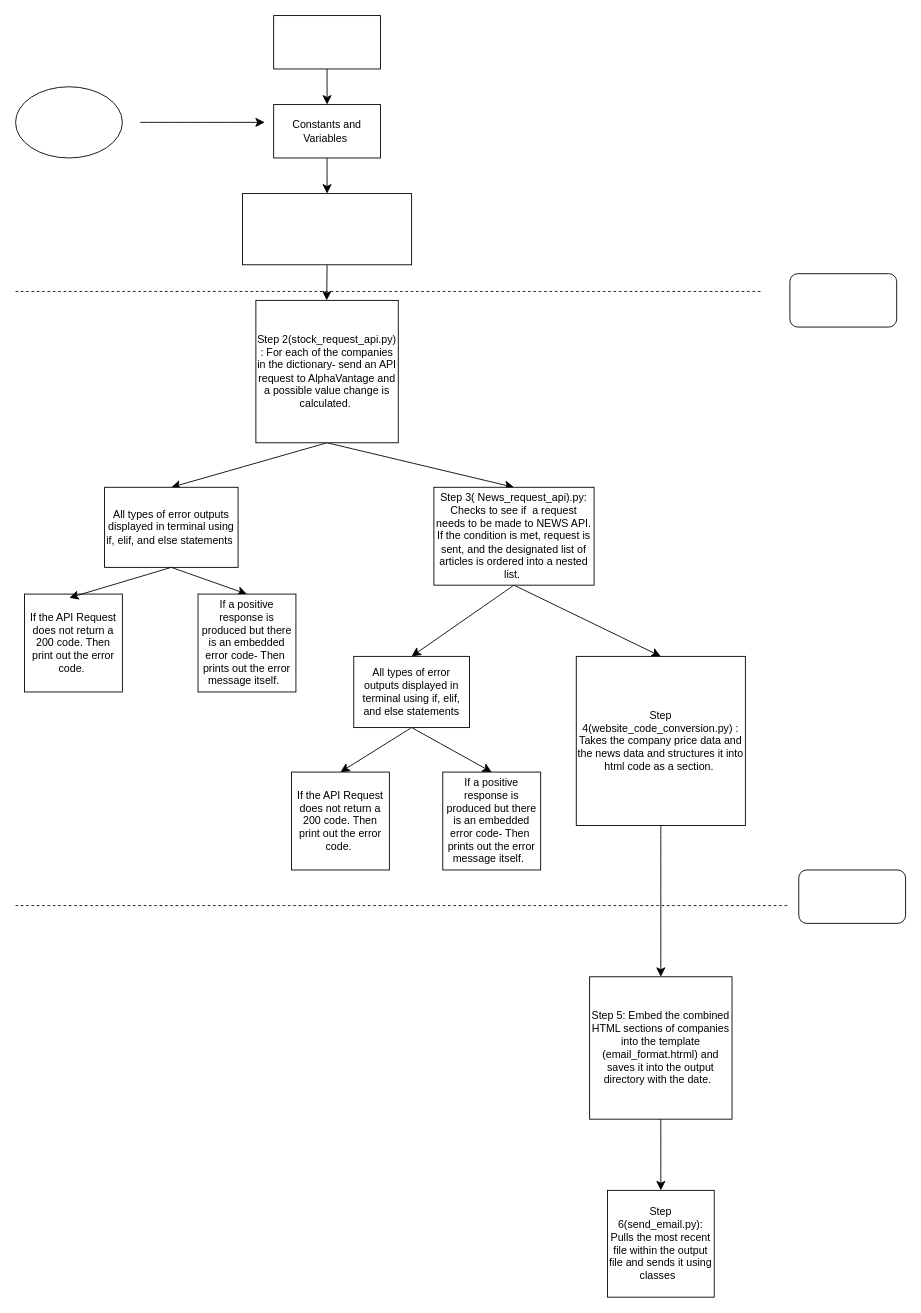
Some shapes in this 921 by 1313 pixel diagram are drawn without their labels. Each missing label, with the box of its shape:
End of the for loop: (798, 869, 906, 923)
Execution of a For Loop with the dictionary: (789, 273, 897, 327)
Imports Section: (273, 15, 380, 69)
Step 1: Convert the companies into a dictionary where Ticker:Company Name: (242, 193, 412, 265)
Variables pulled from the .env fil: (15, 86, 122, 158)
